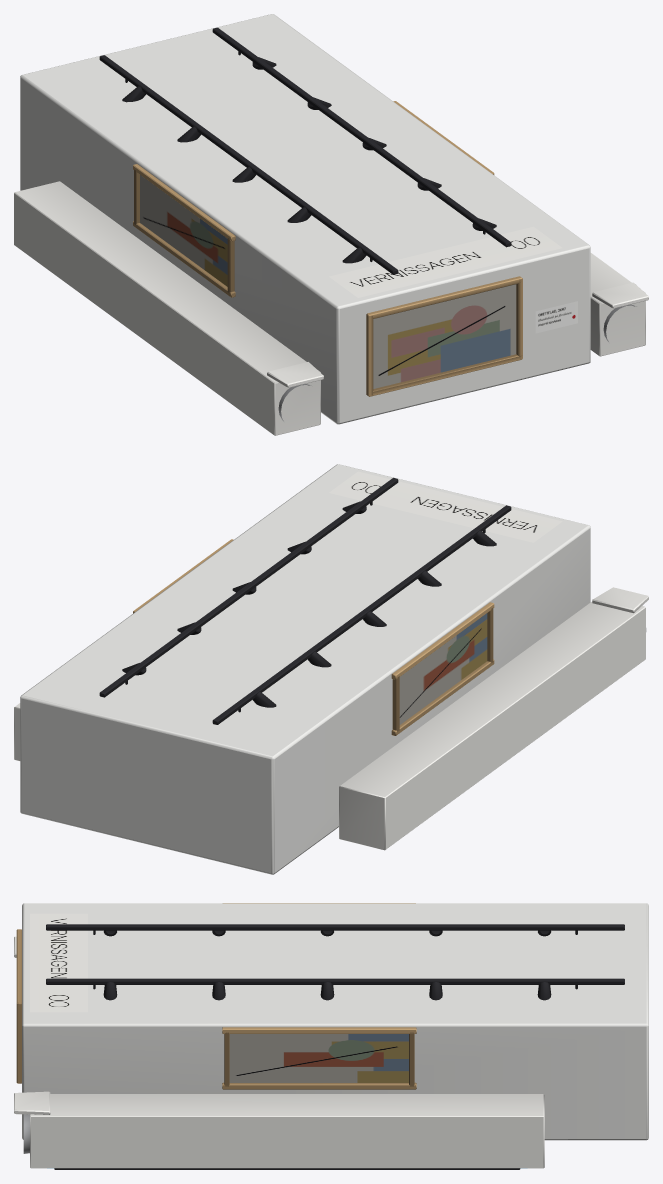
File: craft_4.glb
The picture shows the model from 3 angles, top to bottom: view 1: azimuth 30°, elevation 25°; view 2: azimuth 150°, elevation 25°; view 3: azimuth 270°, elevation 25°; orthographic projection.
Parts seen in each view (by area): view 1: craft_4_cube, craft_4_rig, craft_4_paint_stern, craft_4_frames, craft_4_rear, craft_4_paint_L, craft_4_card, flap_R_plate, flap_L_plate; view 2: craft_4_cube, craft_4_rig, craft_4_rear, craft_4_paint_L, craft_4_frames, flap_L_plate; view 3: craft_4_cube, craft_4_rig, craft_4_paint_R, craft_4_rear, craft_4_frames, flap_R_plate.
Part boxes in pixels (<box>): craft_4_cube: <box>20,14,590,424</box>; craft_4_rig: <box>14,27,645,435</box>; craft_4_paint_stern: <box>373,284,516,388</box>; craft_4_frames: <box>133,101,522,396</box>; craft_4_rear: <box>329,226,562,297</box>; craft_4_paint_L: <box>140,175,227,286</box>; craft_4_card: <box>535,301,577,333</box>; flap_R_plate: <box>592,282,648,308</box>; flap_L_plate: <box>267,362,323,387</box>; craft_4_cube: <box>20,464,590,874</box>; craft_4_rig: <box>14,477,646,850</box>; craft_4_rear: <box>329,471,562,542</box>; craft_4_paint_L: <box>399,613,487,724</box>; craft_4_frames: <box>133,539,494,735</box>; flap_L_plate: <box>592,587,648,613</box>; craft_4_cube: <box>22,903,648,1140</box>; craft_4_rig: <box>23,924,624,1169</box>; craft_4_paint_R: <box>229,1034,408,1082</box>; craft_4_rear: <box>30,913,87,1012</box>; craft_4_frames: <box>16,903,416,1089</box>; flap_R_plate: <box>14,1091,50,1114</box>.
Bounding box in the file's own units: 5.26 × 1.84 × 7.9.
11 materials, 4 textured.
